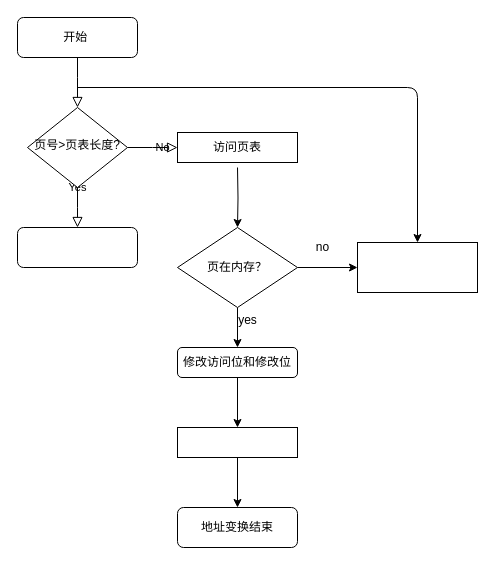
The diagram is 495 pixels wide and 565 high, and some of its shapes have lost their labels. The shapes that lost their labels are listed below. From the top down, each one's box as (x1, y1, x2, y2) in pixels, then its label:
(16, 226, 138, 268): 越界中断
(356, 242, 478, 292): 产生中断请求调页
(176, 426, 298, 458): 形成物理地址
